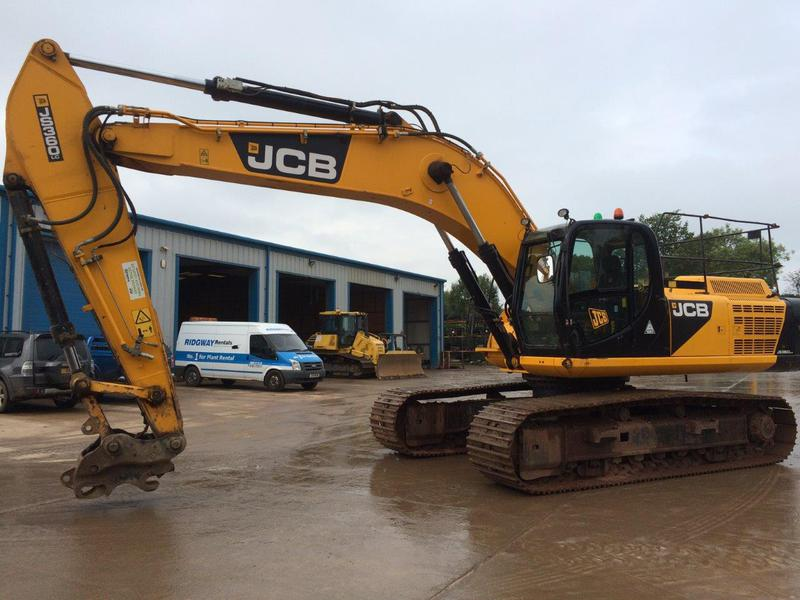shovel: (3, 37, 800, 512)
